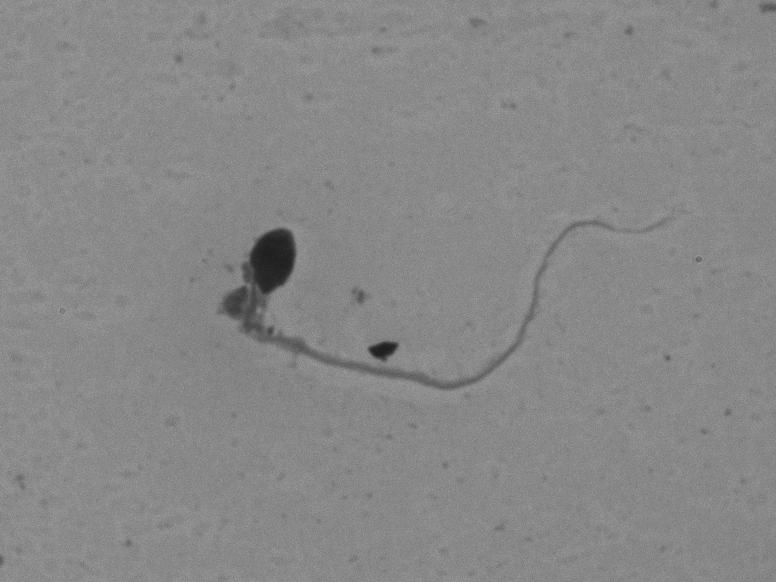Abnormal: (201, 160, 682, 410)
